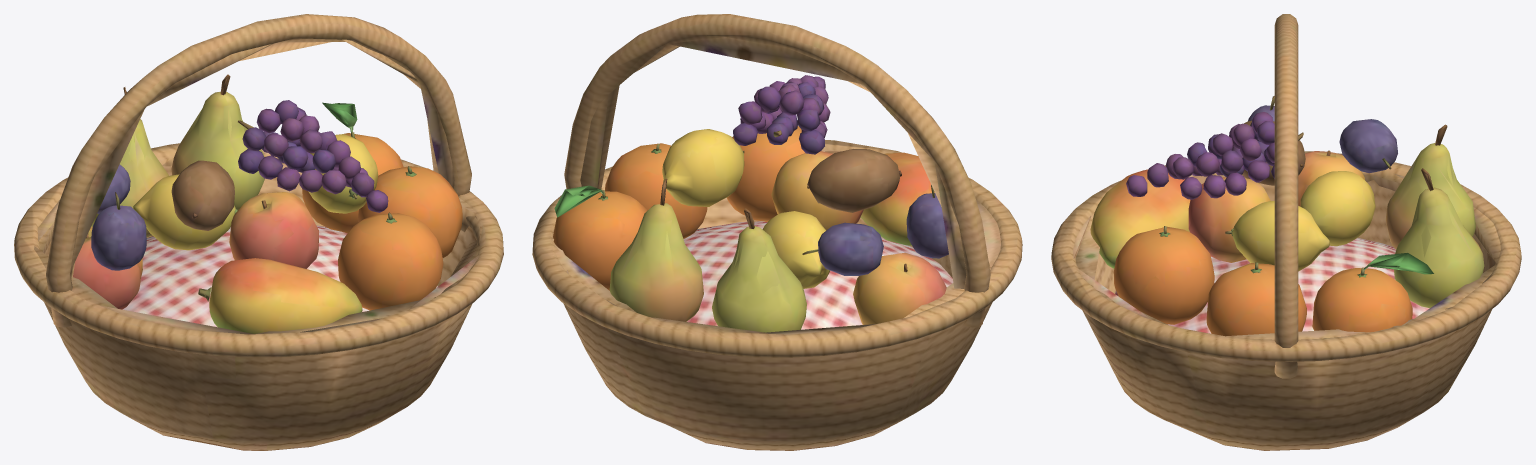
The model's file is g3d_fruit_basket.glb.
The picture shows the model from 3 angles, left to right: view 1: azimuth 30°, elevation 25°; view 2: azimuth 150°, elevation 25°; view 3: azimuth 270°, elevation 25°; orthographic projection. The views are drawn at different scales.
Parts seen in each view (by area): view 1: fruit-basket_body, fruit-basket_body_lo; view 2: fruit-basket_body, fruit-basket_body_lo; view 3: fruit-basket_body, fruit-basket_body_lo.
Boxes of the visible parts, left/top/right/bottom form: fruit-basket_body: left=14, top=14, right=503, bottom=450; fruit-basket_body_lo: left=34, top=39, right=482, bottom=389; fruit-basket_body: left=532, top=14, right=1022, bottom=450; fruit-basket_body_lo: left=550, top=37, right=1000, bottom=421; fruit-basket_body: left=1051, top=14, right=1521, bottom=450; fruit-basket_body_lo: left=1073, top=96, right=1500, bottom=370.
Bounding box in the file's own units: 0.3737 × 0.3091 × 0.3737.
Materials: 1 (1 with a texture image).
